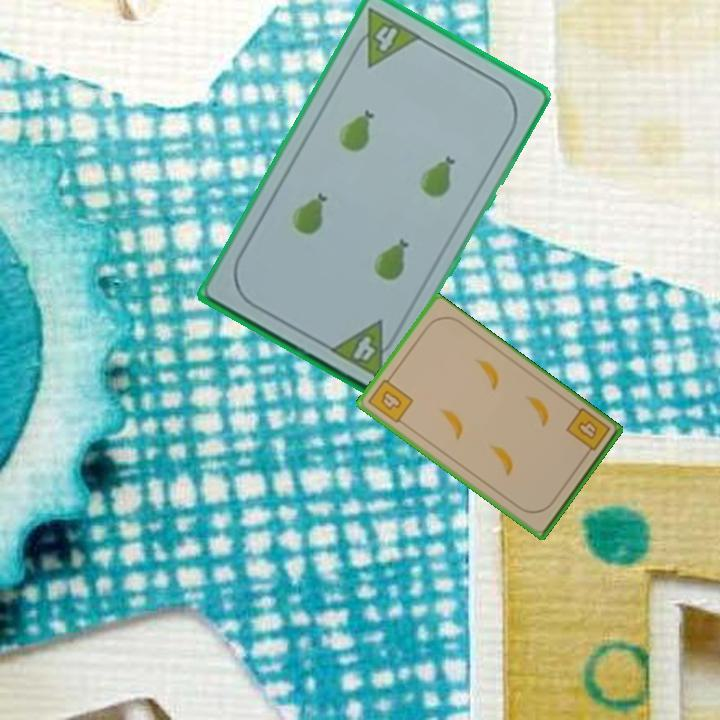4b: (364, 371, 416, 426), (562, 405, 613, 460)
4p: (346, 4, 424, 70), (326, 316, 402, 381)
